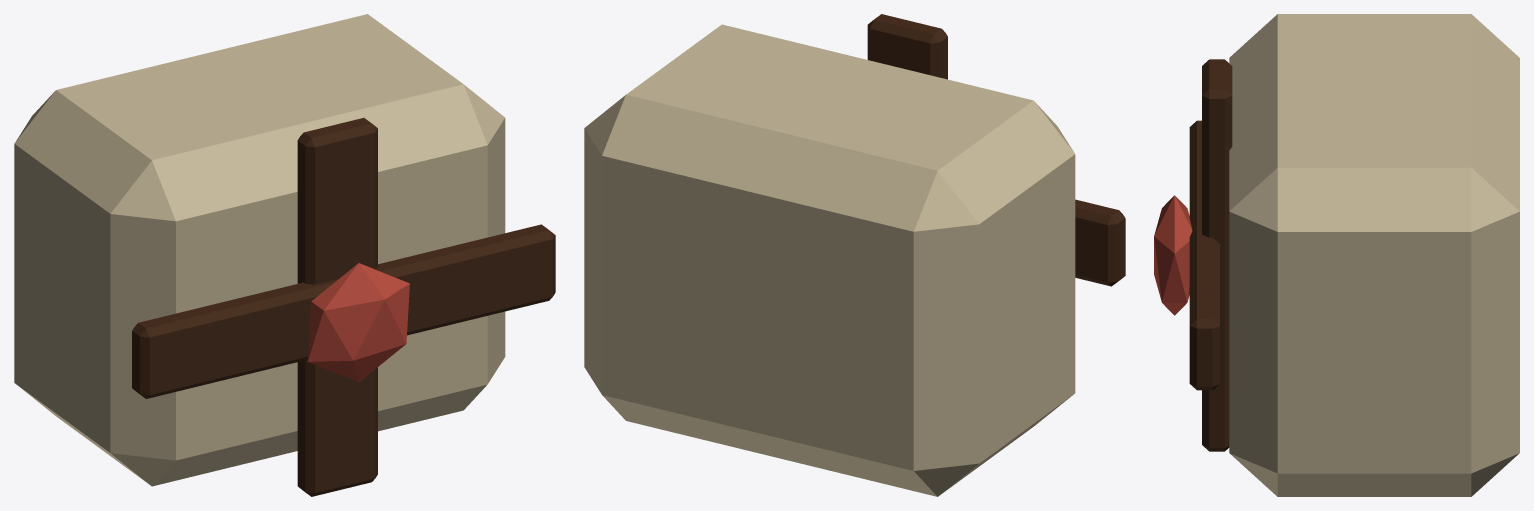
The model's file is prop_crafting_ready_a.glb.
The picture shows the model from 3 angles, left to right: view 1: azimuth 30°, elevation 25°; view 2: azimuth 150°, elevation 25°; view 3: azimuth 270°, elevation 25°; orthographic projection.
Visible parts, largest first — view 1: ready_parcel, ready_parcel_band_horizontal, ready_parcel_seal; view 2: ready_parcel, ready_parcel_band_horizontal; view 3: ready_parcel, ready_parcel_band_horizontal, ready_parcel_seal.
Boxes of the visible parts, x1,y1,x2,y2 form: ready_parcel: [14, 14, 505, 486]; ready_parcel_band_horizontal: [132, 118, 555, 496]; ready_parcel_seal: [307, 263, 409, 382]; ready_parcel: [584, 24, 1075, 496]; ready_parcel_band_horizontal: [867, 14, 1125, 286]; ready_parcel: [1229, 14, 1519, 496]; ready_parcel_band_horizontal: [1189, 59, 1232, 451]; ready_parcel_seal: [1154, 195, 1192, 315].
Size of the model in its own units: 0.4 by 0.33 by 0.302.
